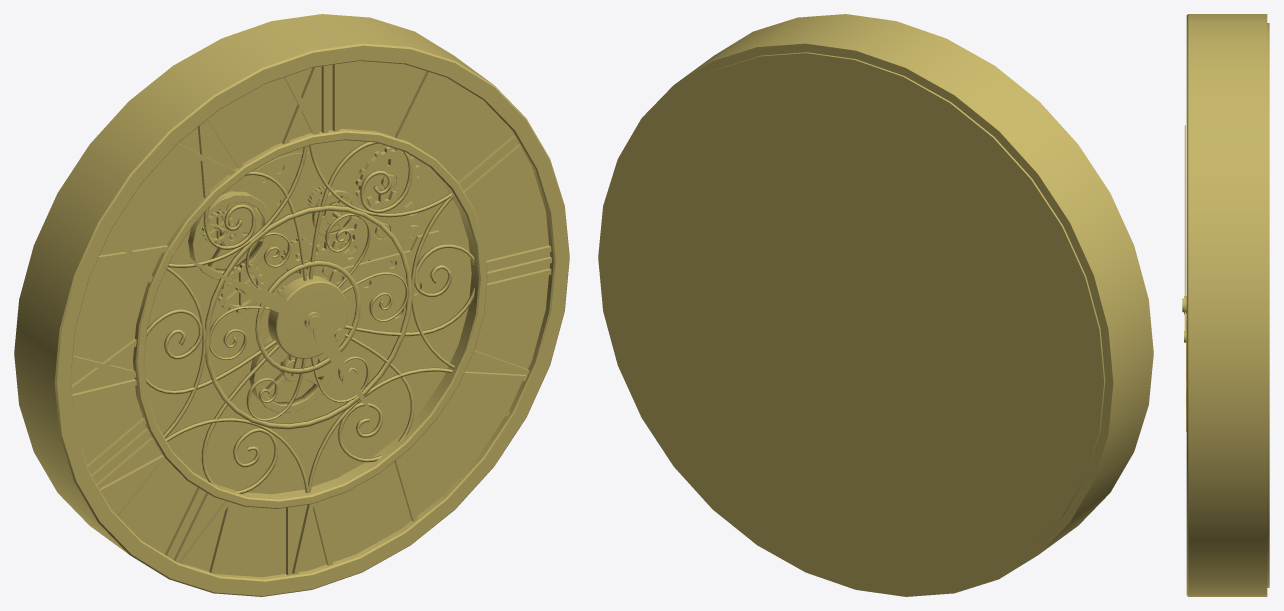
Rendered from Clock.fbx.
The picture shows the model from 3 angles, left to right: view 1: azimuth 30°, elevation 25°; view 2: azimuth 150°, elevation 25°; view 3: azimuth 270°, elevation 25°; orthographic projection.
Visible parts, largest first — view 1: mesh_clock_case, mesh_plate_02, mesh_gear_011, mesh_plate_01, mesh_gear_03, mesh_gear_010, mesh_gear_012, mesh_dial_02, mesh_dial_01, mesh_gear_06, mesh_gear_04, mesh_gear_08; view 2: mesh_clock_case; view 3: mesh_clock_case, mesh_dial_02.
Part boxes in pixels (<box>): mesh_clock_case: <box>14,14,569,596</box>; mesh_plate_02: <box>291,230,439,377</box>; mesh_gear_011: <box>345,190,418,264</box>; mesh_plate_01: <box>218,152,311,244</box>; mesh_gear_03: <box>188,191,272,279</box>; mesh_gear_010: <box>355,146,420,205</box>; mesh_gear_012: <box>249,336,331,413</box>; mesh_dial_02: <box>163,247,345,339</box>; mesh_dial_01: <box>313,327,369,408</box>; mesh_gear_06: <box>299,240,354,282</box>; mesh_gear_04: <box>218,263,264,313</box>; mesh_gear_08: <box>312,190,356,237</box>; mesh_clock_case: <box>598,14,1153,596</box>; mesh_clock_case: <box>1182,14,1269,596</box>; mesh_dial_02: <box>1184,125,1186,342</box>.
Size of the model in its own units: 102 by 102 by 15.36.
